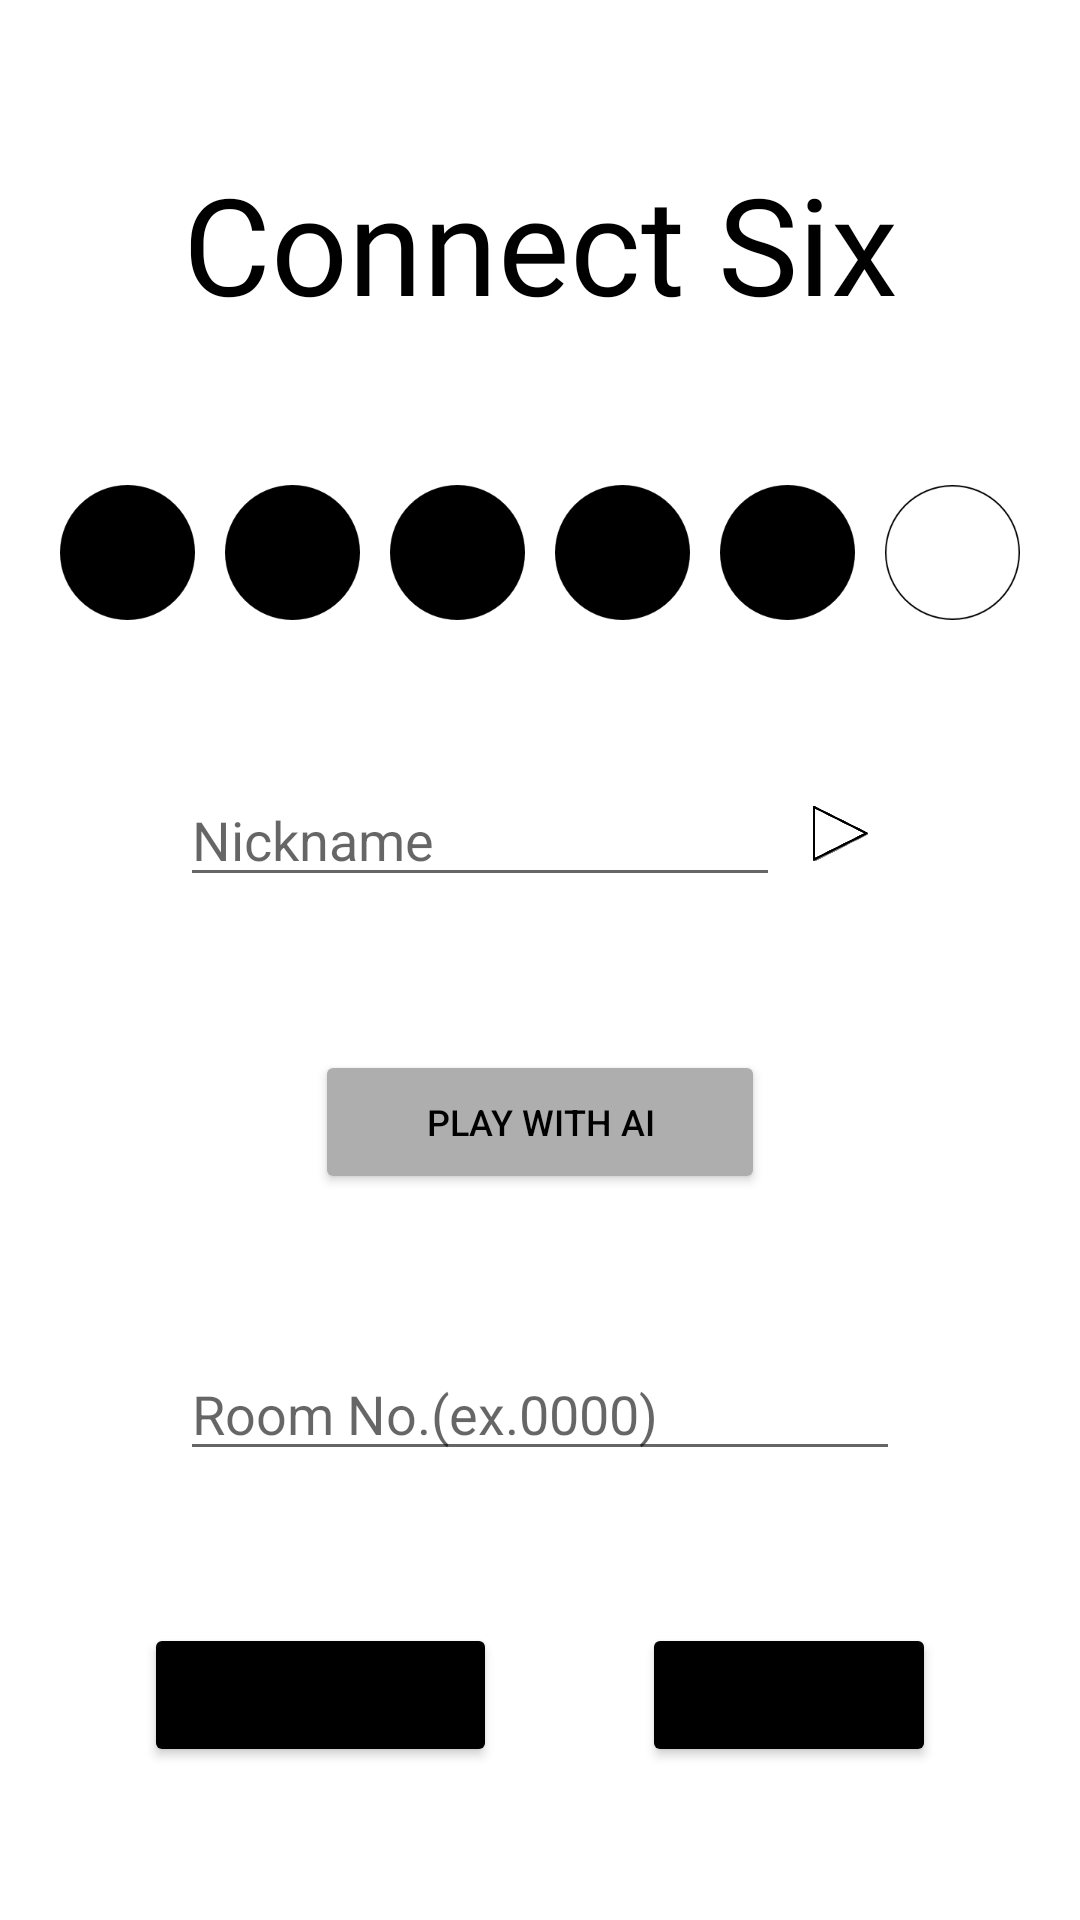

Named icons in this screenshot (1080px x 1920px) and their bounding boxes, (x1, y1, x2, y2):
enter: (813, 806, 868, 861)
